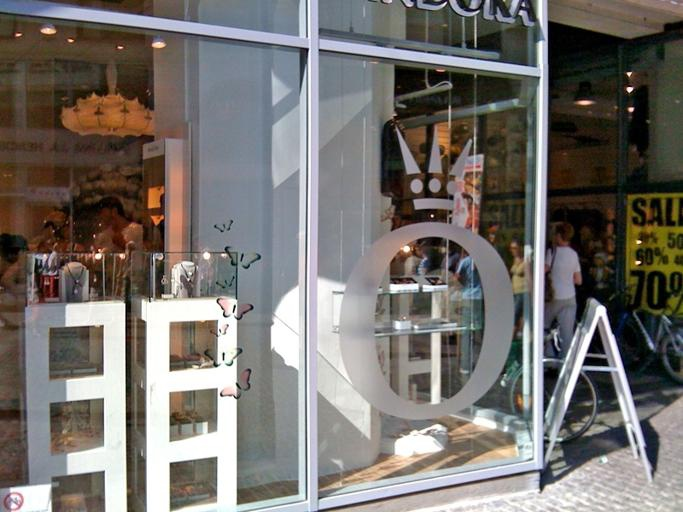non-vehicle: (498, 320, 598, 448), (605, 280, 681, 386)
